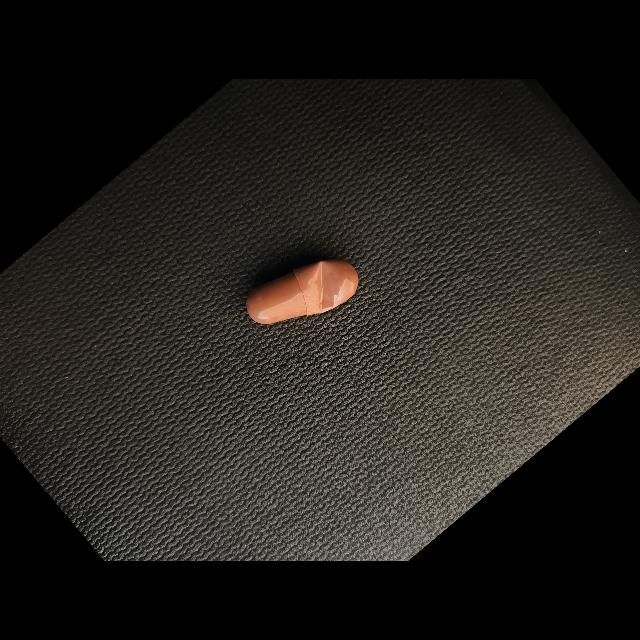Defective Capsule: (303, 261, 347, 311)
